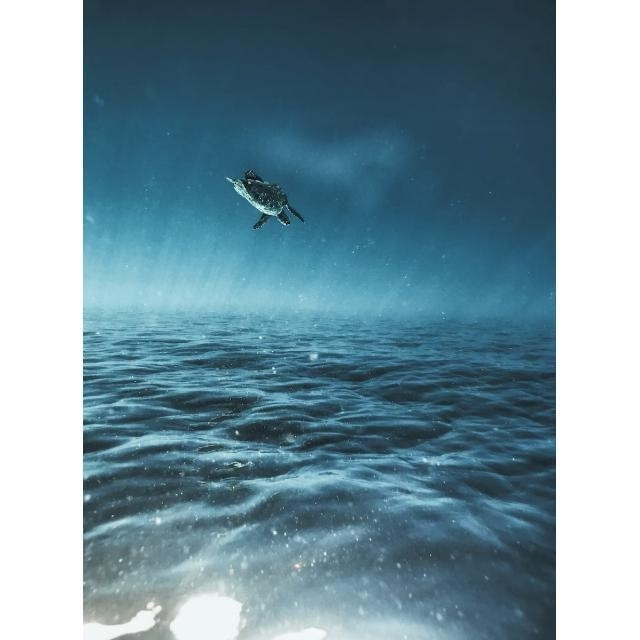turtle: (225, 168, 305, 229)
